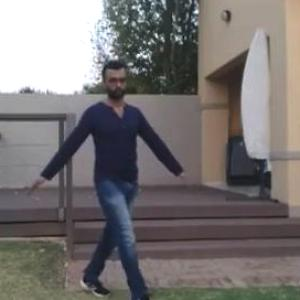land: (33, 64, 177, 299)
